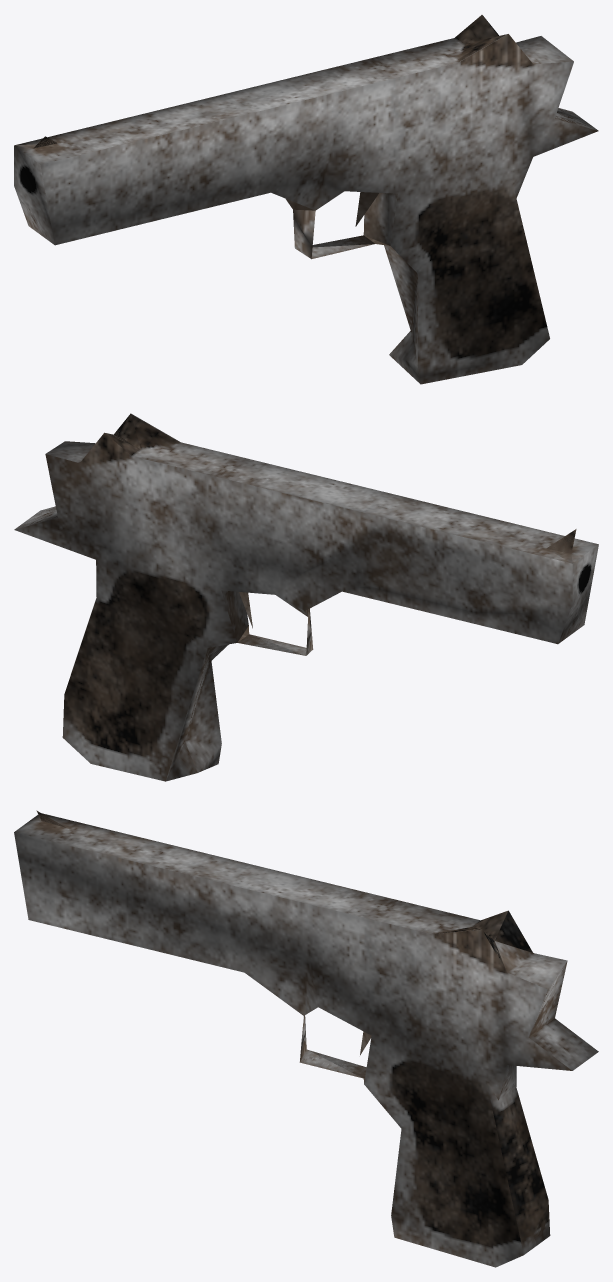
File: Pistola_low.obj
3 views of the same model, one above another, from view 1: azimuth 30°, elevation 25°; view 2: azimuth 150°, elevation 25°; view 3: azimuth 330°, elevation 25° (orthographic).
Parts seen in each view (by area): view 1: Pistola_LowPoly; view 2: Pistola_LowPoly; view 3: Pistola_LowPoly.
Part boxes in pixels (x1,y1,x2,y2): Pistola_LowPoly: (14, 15, 598, 384); Pistola_LowPoly: (14, 413, 598, 781); Pistola_LowPoly: (14, 810, 598, 1267).
Size of the model in its own units: 1.7 by 0.9808 by 0.1394.
1 material, 1 textured.
